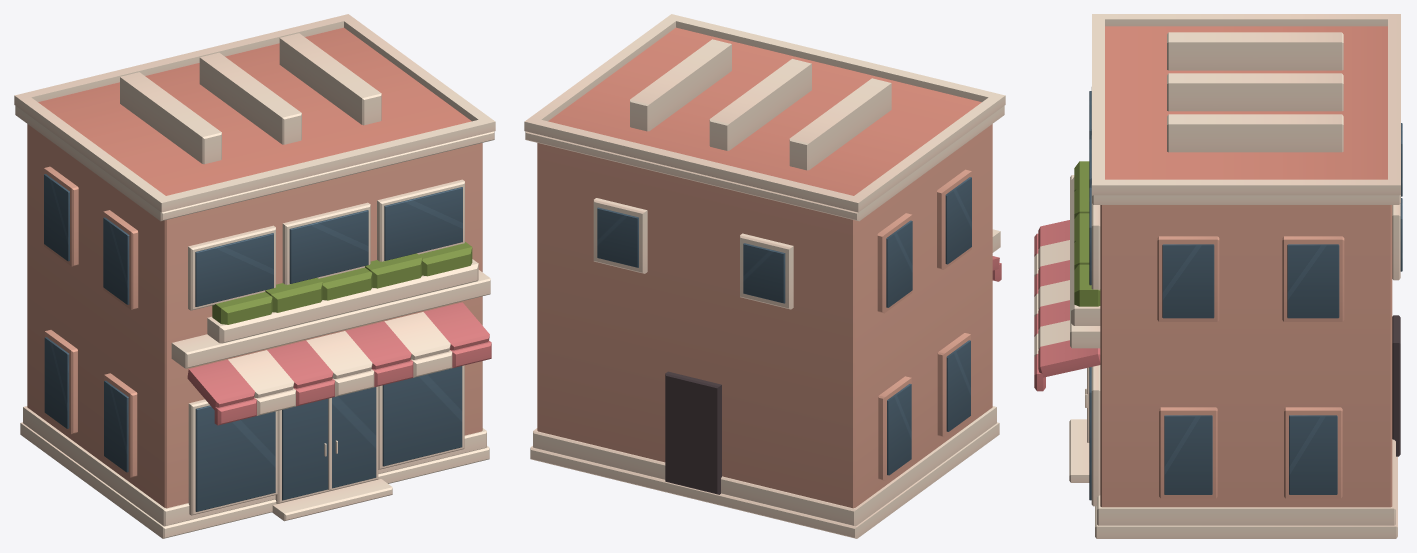
The model's file is 04C-market-threejs.glb.
The picture shows the model from 3 angles, left to right: view 1: azimuth 30°, elevation 25°; view 2: azimuth 150°, elevation 25°; view 3: azimuth 270°, elevation 25°; orthographic projection. The views are drawn at different scales.
Visible parts, largest first — view 1: 04C / trim, 04C / wall, 04C / glass, 04C / roof, 04C / accent, 04C / green; view 2: 04C / wall, 04C / trim, 04C / roof, 04C / glass, 04C / dark; view 3: 04C / wall, 04C / trim, 04C / roof, 04C / glass, 04C / accent, 04C / green, 04C / dark.
Boxes of the visible parts, box(x1,y1,x2,y2) form: 04C / trim: box(14, 14, 495, 538); 04C / wall: box(27, 124, 482, 508); 04C / glass: box(44, 174, 462, 511); 04C / roof: box(38, 27, 471, 195); 04C / accent: box(187, 302, 491, 425); 04C / green: box(212, 242, 472, 324); 04C / wall: box(537, 124, 992, 508); 04C / trim: box(524, 14, 1005, 538); 04C / roof: box(548, 27, 981, 195); 04C / glass: box(597, 177, 971, 475); 04C / dark: box(665, 371, 721, 494); 04C / wall: box(1100, 205, 1392, 507); 04C / trim: box(1034, 14, 1400, 538); 04C / roof: box(1105, 26, 1387, 179); 04C / glass: box(1089, 91, 1402, 500); 04C / accent: box(1034, 220, 1100, 391); 04C / green: box(1074, 161, 1100, 306); 04C / dark: box(1392, 315, 1400, 456).
Bounding box in the file's own units: 5.95 × 6.09 × 5.4.
7 materials, 7 textured.
